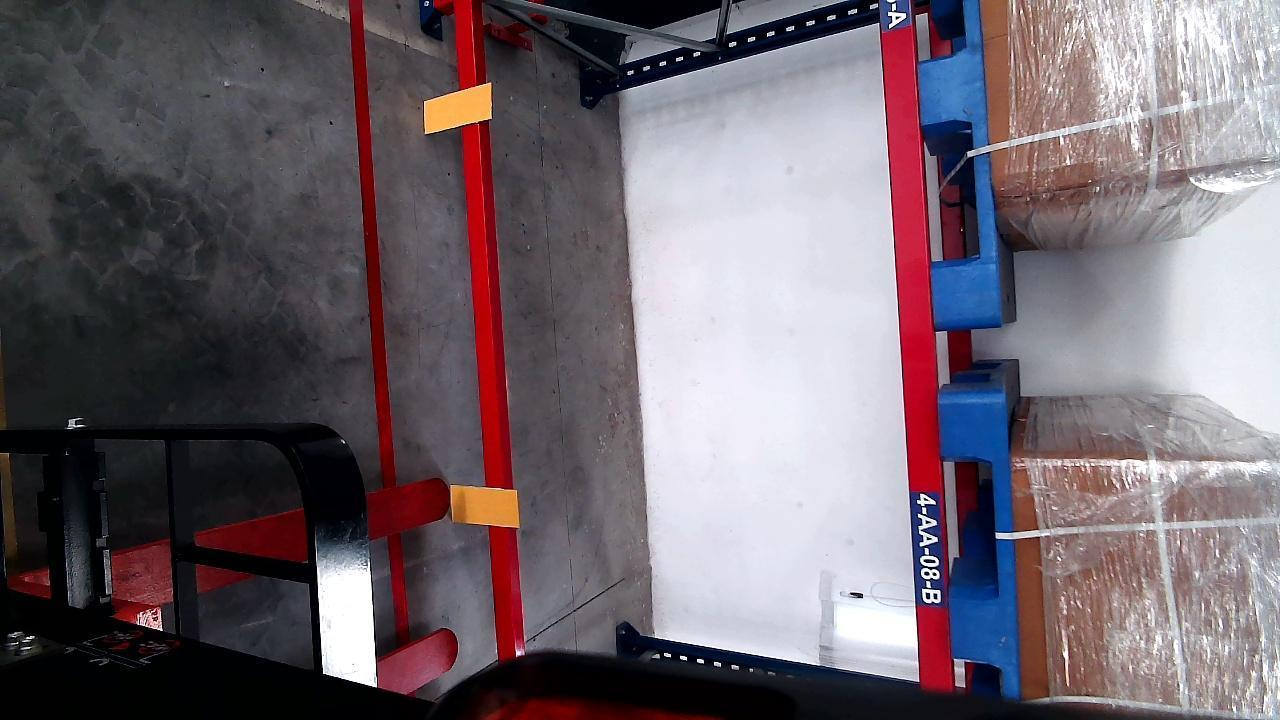h_rack: (878, 0, 946, 687), (454, 0, 523, 676)
orange_strip: (422, 82, 493, 134), (450, 485, 519, 528)
red_line: (352, 0, 394, 481)
small_pallet: (911, 0, 1000, 328), (943, 391, 1018, 695)
